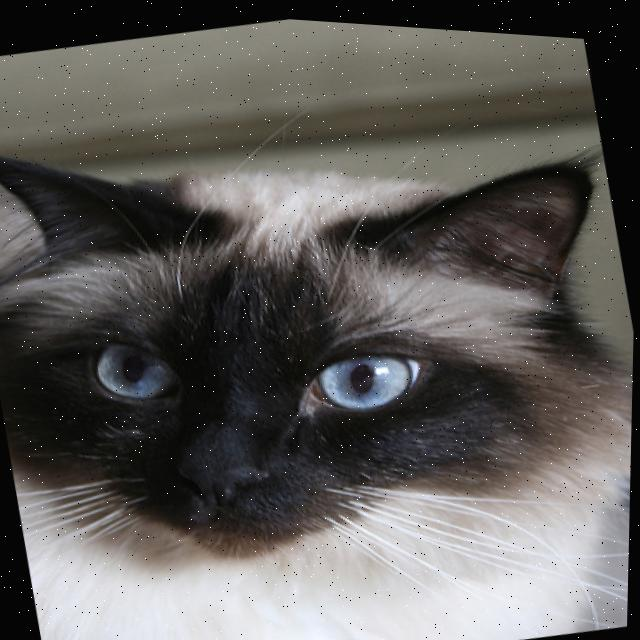Birman: (0, 19, 640, 640)
